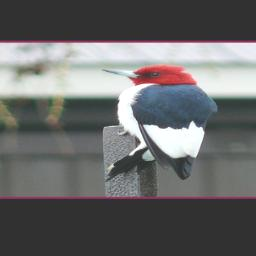Woodpecker: (100, 61, 220, 184)
